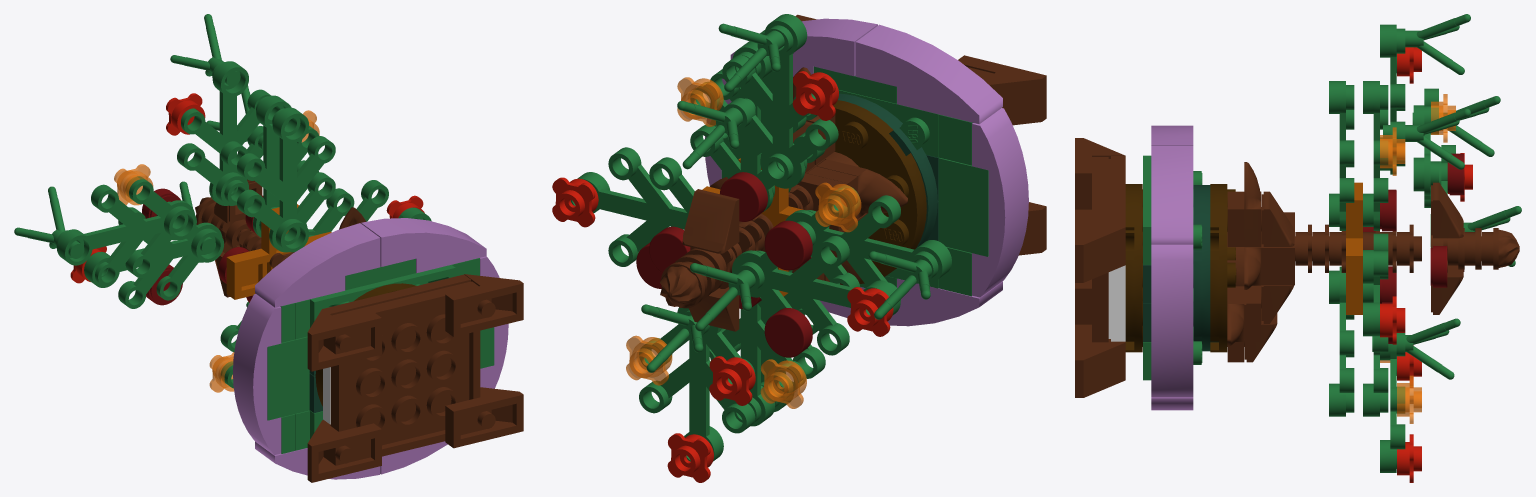
Rendered from bonsai-pequeño.dae.
3 renders of one model, left to right at view 1: azimuth 30°, elevation 25°; view 2: azimuth 150°, elevation 25°; view 3: azimuth 270°, elevation 25°, orthographic. The views are drawn at different scales.
Parts seen in each view (by area): view 1: Inner-Node-UntitledModel-59, Inner-Node-UntitledModel-70, Inner-Node-UntitledModel-9, Inner-Node-UntitledModel-66, Inner-Node-UntitledModel-71, Inner-Node-UntitledModel-76, Inner-Node-UntitledModel-67, Inner-Node-UntitledModel-4, Inner-Node-UntitledModel-92, Inner-Node-UntitledModel-90, Inner-Node-UntitledModel-89, Inner-Node-UntitledModel-91 (+24 smaller); view 2: Inner-Node-UntitledModel-66, Inner-Node-UntitledModel-71, Inner-Node-UntitledModel-76, Inner-Node-UntitledModel-4, Inner-Node-UntitledModel-46, Inner-Node-UntitledModel-21, Inner-Node-UntitledModel-12, Inner-Node-UntitledModel-9, Inner-Node-UntitledModel-77, Inner-Node-UntitledModel-32, Inner-Node-UntitledModel-16, Inner-Node-UntitledModel-67 (+37 smaller); view 3: Inner-Node-UntitledModel-82, Inner-Node-UntitledModel-67, Inner-Node-UntitledModel-46, Inner-Node-UntitledModel-57, Inner-Node-UntitledModel-90, Inner-Node-UntitledModel-92, Inner-Node-UntitledModel-51, Inner-Node-UntitledModel-70, Inner-Node-UntitledModel-32, Inner-Node-UntitledModel-27, Inner-Node-UntitledModel-59, Inner-Node-UntitledModel-21 (+48 smaller).
Boxes of the visible parts, box(x1,y1,x2,y2) form: Inner-Node-UntitledModel-59: box(330, 281, 480, 456); Inner-Node-UntitledModel-70: box(237, 107, 335, 252); Inner-Node-UntitledModel-9: box(56, 176, 196, 286); Inner-Node-UntitledModel-66: box(255, 223, 380, 307); Inner-Node-UntitledModel-71: box(177, 61, 272, 205); Inner-Node-UntitledModel-76: box(233, 294, 281, 454); Inner-Node-UntitledModel-67: box(361, 218, 486, 273); Inner-Node-UntitledModel-4: box(84, 201, 223, 308); Inner-Node-UntitledModel-92: box(445, 274, 523, 336); Inner-Node-UntitledModel-90: box(445, 387, 523, 448); Inner-Node-UntitledModel-89: box(307, 420, 381, 482); Inner-Node-UntitledModel-91: box(307, 309, 381, 371); Inner-Node-UntitledModel-66: box(855, 24, 1002, 124); Inner-Node-UntitledModel-71: box(722, 14, 838, 188); Inner-Node-UntitledModel-76: box(972, 108, 1028, 297); Inner-Node-UntitledModel-4: box(732, 236, 900, 355); Inner-Node-UntitledModel-46: box(833, 100, 926, 283); Inner-Node-UntitledModel-21: box(571, 147, 694, 266); Inner-Node-UntitledModel-12: box(639, 307, 755, 461); Inner-Node-UntitledModel-9: box(785, 185, 951, 300); Inner-Node-UntitledModel-77: box(938, 157, 988, 256); Inner-Node-UntitledModel-32: box(690, 41, 806, 211); Inner-Node-UntitledModel-16: box(709, 300, 806, 426); Inner-Node-UntitledModel-67: box(730, 18, 877, 76); Inner-Node-UntitledModel-82: box(1151, 244, 1193, 397); Inner-Node-UntitledModel-67: box(1151, 145, 1193, 244); Inner-Node-UntitledModel-46: box(1210, 184, 1235, 352); Inner-Node-UntitledModel-57: box(1125, 184, 1142, 352); Inner-Node-UntitledModel-90: box(1075, 324, 1125, 397); Inner-Node-UntitledModel-92: box(1075, 209, 1125, 282); Inner-Node-UntitledModel-51: box(1193, 185, 1218, 351); Inner-Node-UntitledModel-70: box(1329, 81, 1354, 230); Inner-Node-UntitledModel-32: box(1363, 81, 1388, 230); Inner-Node-UntitledModel-27: box(1329, 266, 1354, 416); Inner-Node-UntitledModel-59: box(1092, 157, 1108, 342); Inner-Node-UntitledModel-21: box(1363, 233, 1388, 352).
Bounding box in the file's own units: 205 × 227 × 211.
